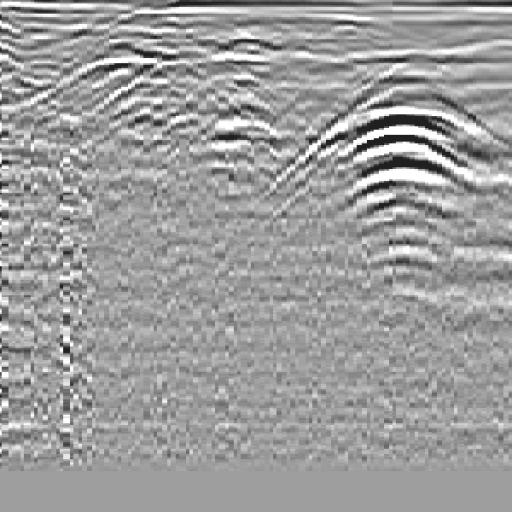metalic: (282, 72, 512, 247)
